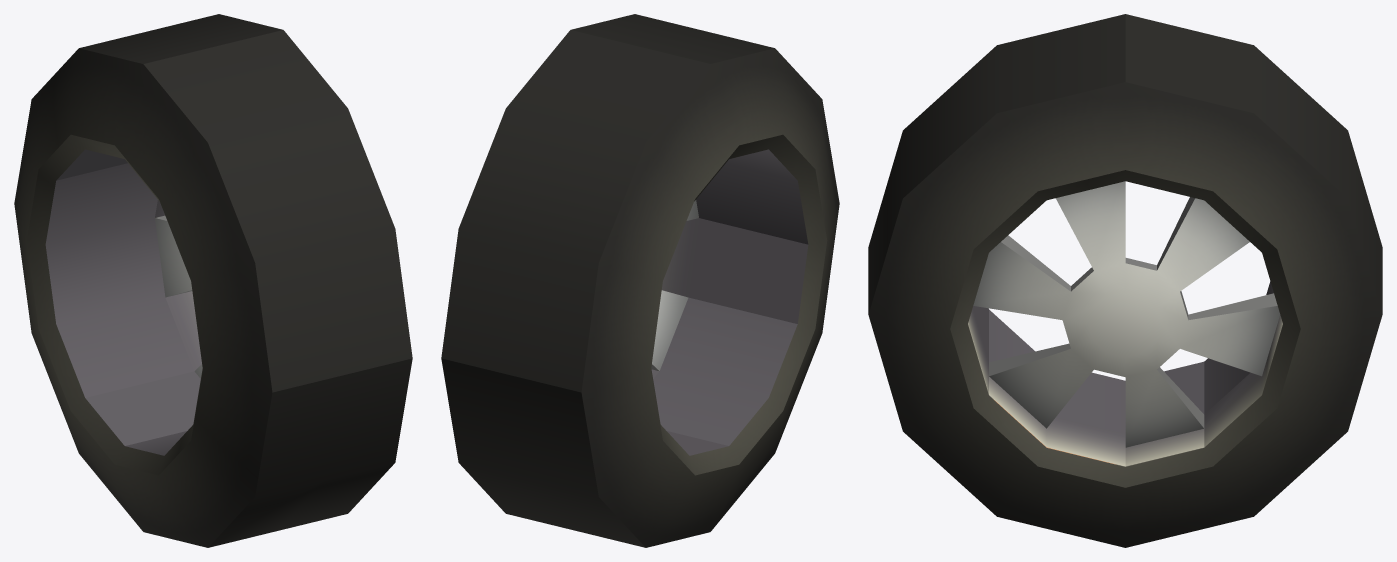
The model's file is pickupwheelLeft.glb.
3 views of the same model, side by side, from view 1: azimuth 30°, elevation 25°; view 2: azimuth 150°, elevation 25°; view 3: azimuth 270°, elevation 25° (orthographic).
Visible parts, largest first — view 1: Plane_002.002_Plane.000; view 2: Plane_002.002_Plane.000; view 3: Plane_002.002_Plane.000.
Part boxes in pixels (box(x1,y1,x2,y2)): Plane_002.002_Plane.000: box(14, 14, 412, 547); Plane_002.002_Plane.000: box(441, 14, 839, 547); Plane_002.002_Plane.000: box(868, 14, 1382, 547).
Bounding box in the file's own units: 0.1771 × 0.4012 × 0.4012.
Materials: 1 (1 with a texture image).
